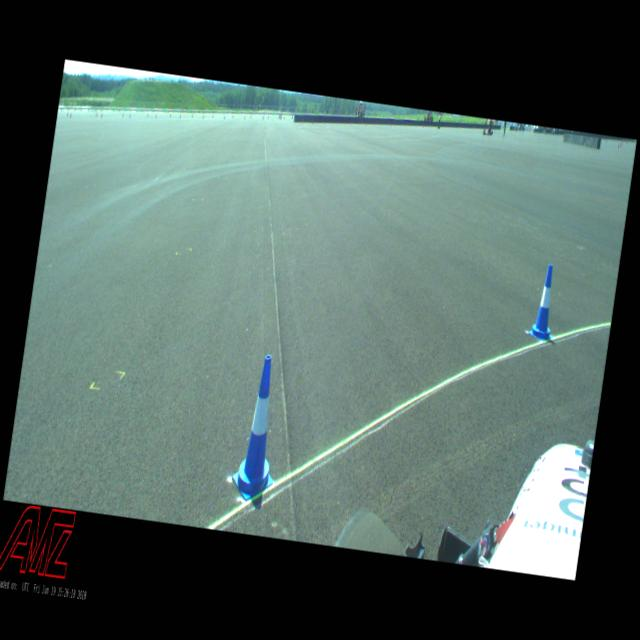blue_cone: (229, 353, 290, 504), (528, 263, 563, 342)
